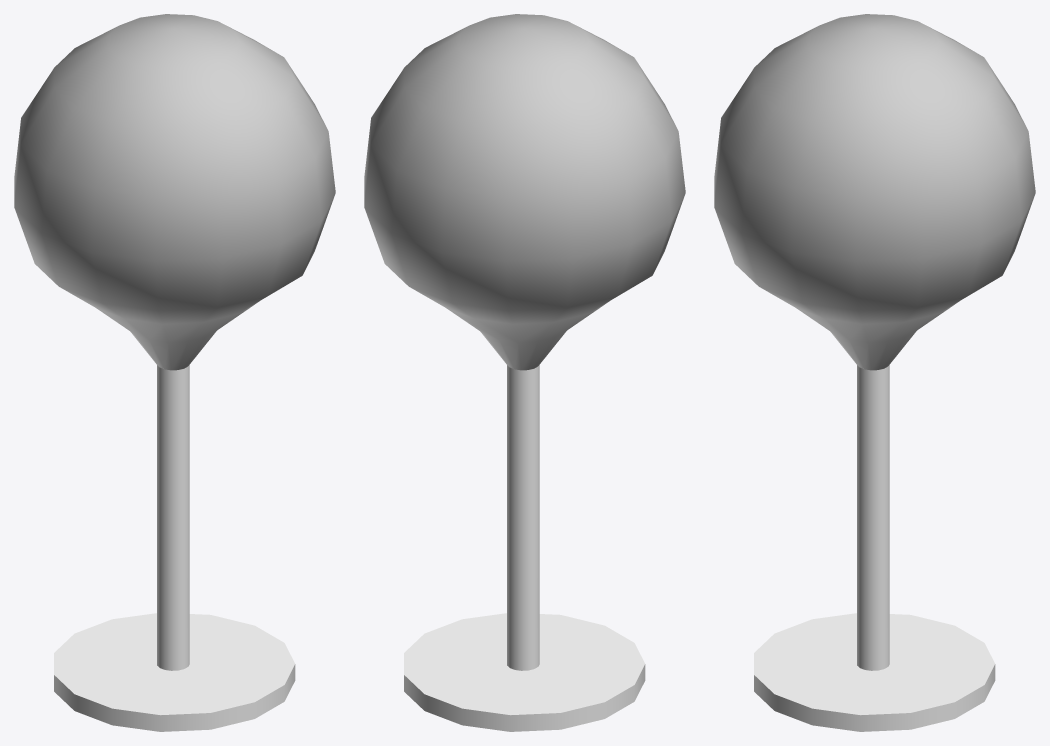
File: NightLight_01.fbx
3 renders of one model, left to right at view 1: azimuth 30°, elevation 25°; view 2: azimuth 150°, elevation 25°; view 3: azimuth 270°, elevation 25°, orthographic.
Parts seen in each view (by area): view 1: Bulb_01, Stand_01; view 2: Bulb_01, Stand_01; view 3: Bulb_01, Stand_01.
Part boxes in pixels (bbox=[...]): Bulb_01: bbox=[14, 14, 335, 370]; Stand_01: bbox=[54, 365, 295, 731]; Bulb_01: bbox=[364, 14, 685, 370]; Stand_01: bbox=[404, 365, 645, 731]; Bulb_01: bbox=[714, 14, 1035, 370]; Stand_01: bbox=[754, 365, 995, 731].
Bounding box in the file's own units: 4.42 × 9.83 × 4.4.
